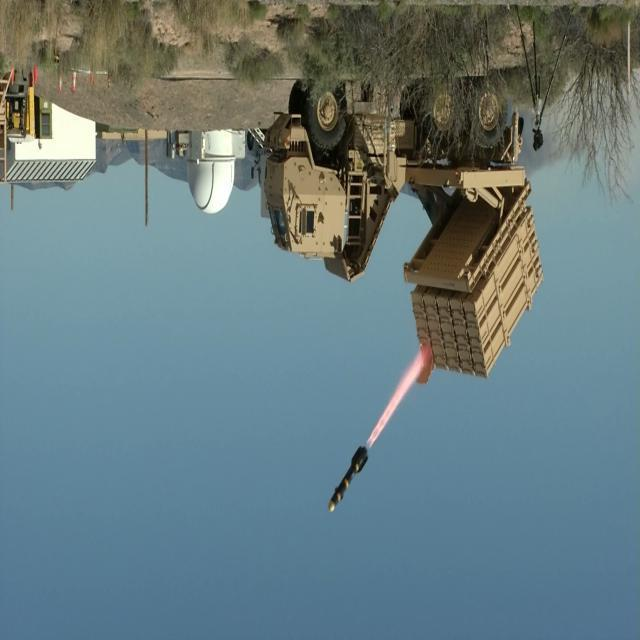Missile: (322, 444, 375, 517)
